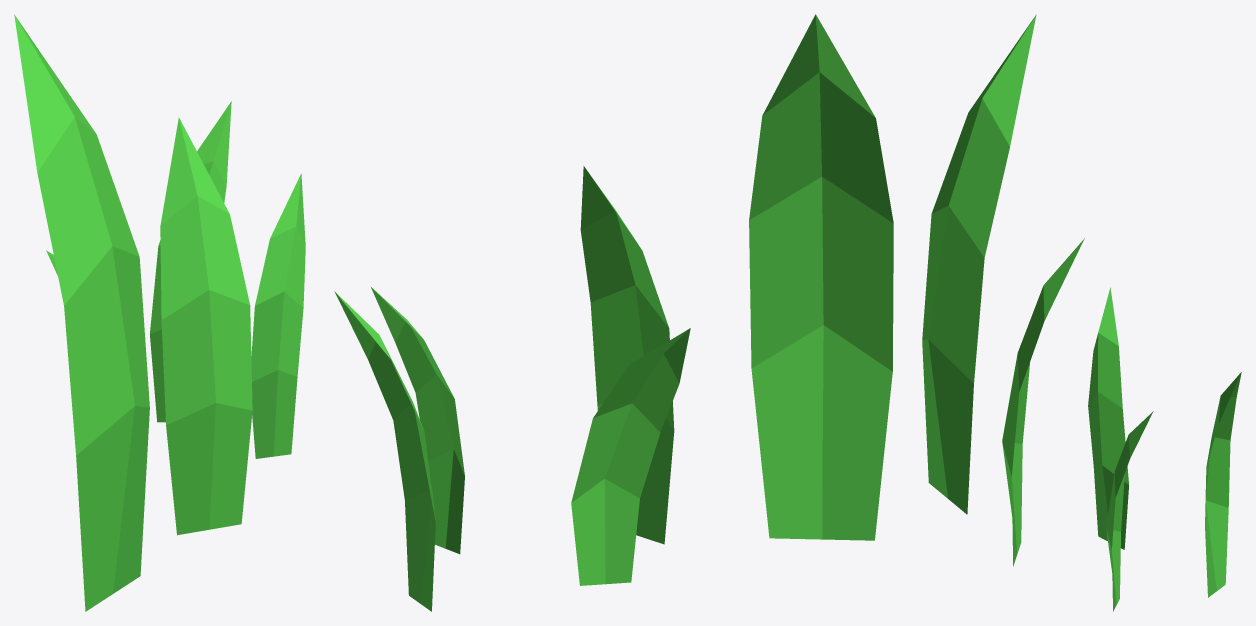
The model's file is grass03.fbx.
3 views of the same model, side by side, from view 1: azimuth 30°, elevation 25°; view 2: azimuth 150°, elevation 25°; view 3: azimuth 270°, elevation 25° (orthographic). The views are drawn at different scales.
Visible parts, largest first — view 1: grass03; view 2: grass03; view 3: grass03.
Boxes of the visible parts, x1,y1,x2,y2 form: grass03: (14,14,305,611); grass03: (334,14,893,611); grass03: (922,14,1241,611).
Size of the model in its own units: 35.44 by 50.06 by 31.12.
